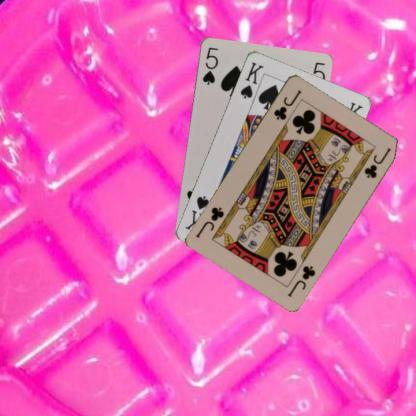5s: (200, 44, 220, 86)
Jc: (284, 262, 317, 298), (271, 88, 304, 122)
Ks: (238, 59, 265, 100)
